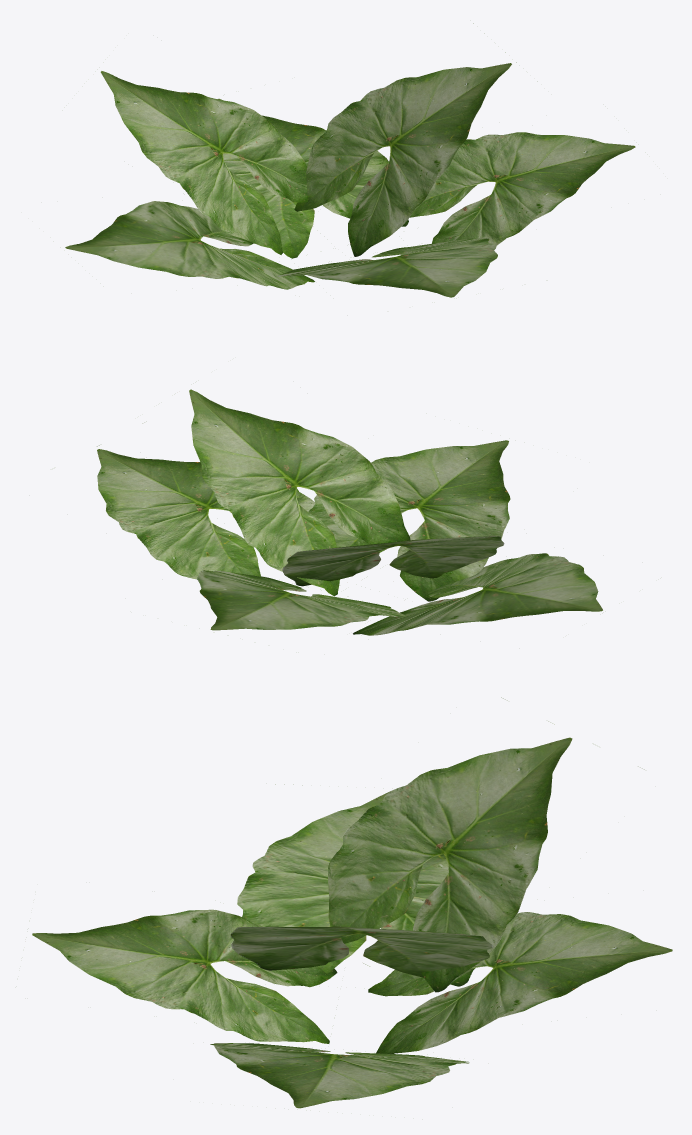
The model's file is detail plant7.FBX.
3 views of the same model, one above another, from view 1: azimuth 30°, elevation 25°; view 2: azimuth 150°, elevation 25°; view 3: azimuth 270°, elevation 25° (orthographic). The views are drawn at different scales.
Visible parts, largest first — view 1: detail plant7; view 2: detail plant7; view 3: detail plant7.
Part boxes in pixels (box(x1,y1,x2,y2)): detail plant7: box(65, 23, 635, 297); detail plant7: box(97, 389, 602, 635); detail plant7: box(32, 697, 672, 1108).
Size of the model in its own units: 2.33 by 0.607 by 1.93.
